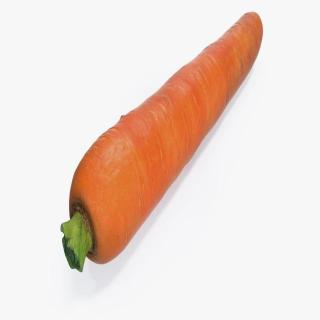carrot: (58, 6, 263, 278)
